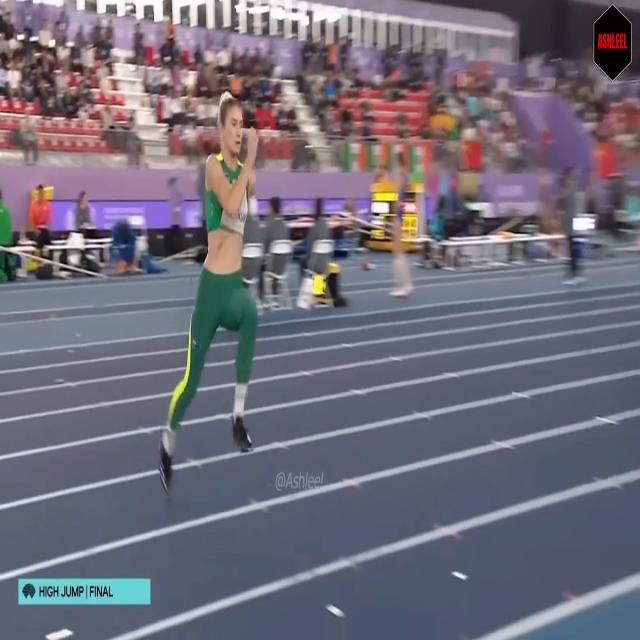run: (160, 91, 256, 481)
